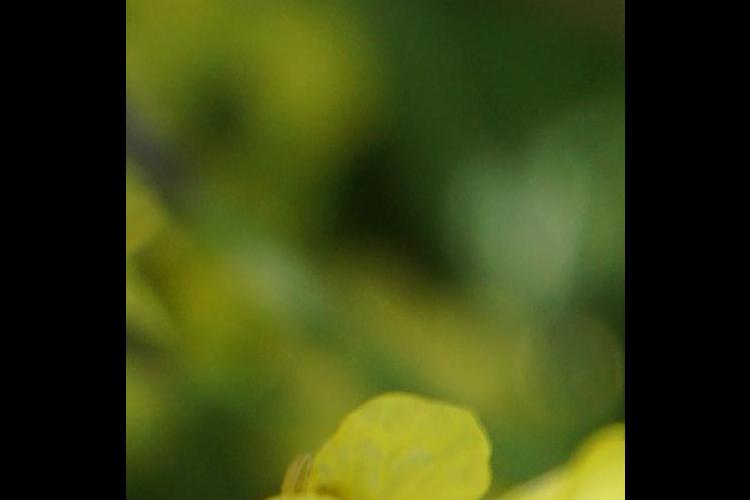yellow: (218, 396, 615, 500)
